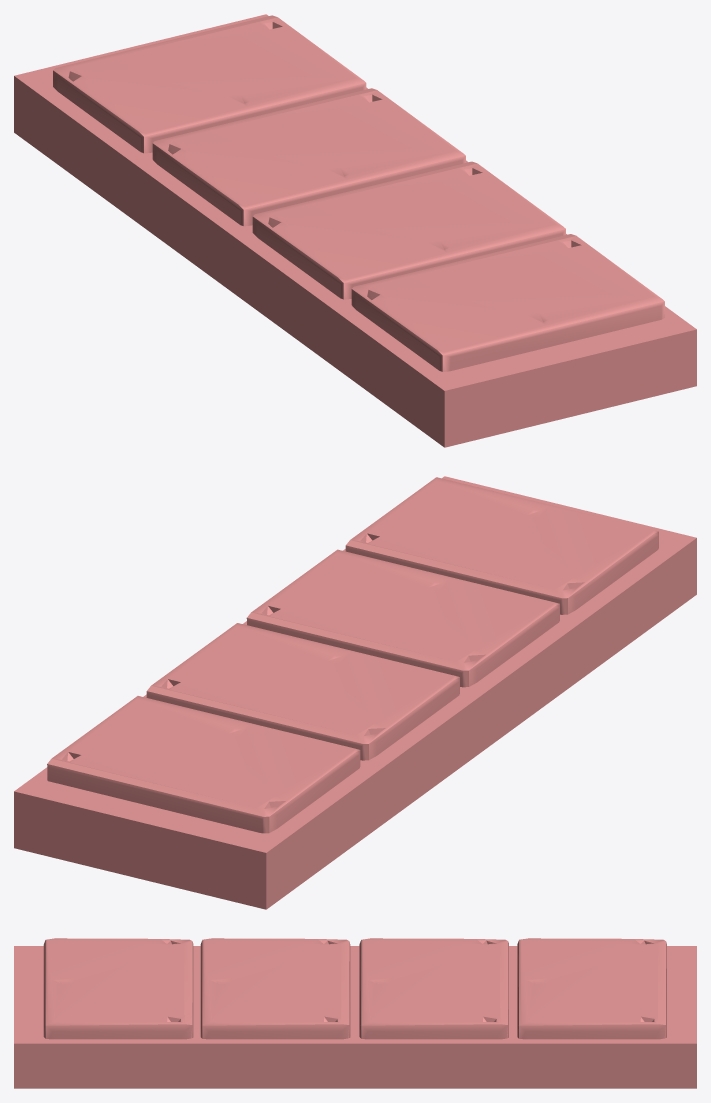
The model's file is ComplexWall_3x1_01_Final.fbx.
3 views of the same model, one above another, from view 1: azimuth 30°, elevation 25°; view 2: azimuth 150°, elevation 25°; view 3: azimuth 270°, elevation 25° (orthographic). The views are drawn at different scales.
Parts seen in each view (by area): view 1: Final_ComplexWall_3x1_01; view 2: Final_ComplexWall_3x1_01; view 3: Final_ComplexWall_3x1_01.
Part boxes in pixels (x1=…): Final_ComplexWall_3x1_01: x1=14, y1=14, x2=696, y2=447; Final_ComplexWall_3x1_01: x1=14, y1=476, x2=696, y2=909; Final_ComplexWall_3x1_01: x1=14, y1=938, x2=696, y2=1088.
Bounding box in the file's own units: 102 × 28.87 × 300.
